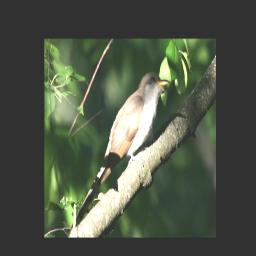Cuckoo: (72, 72, 170, 229)
